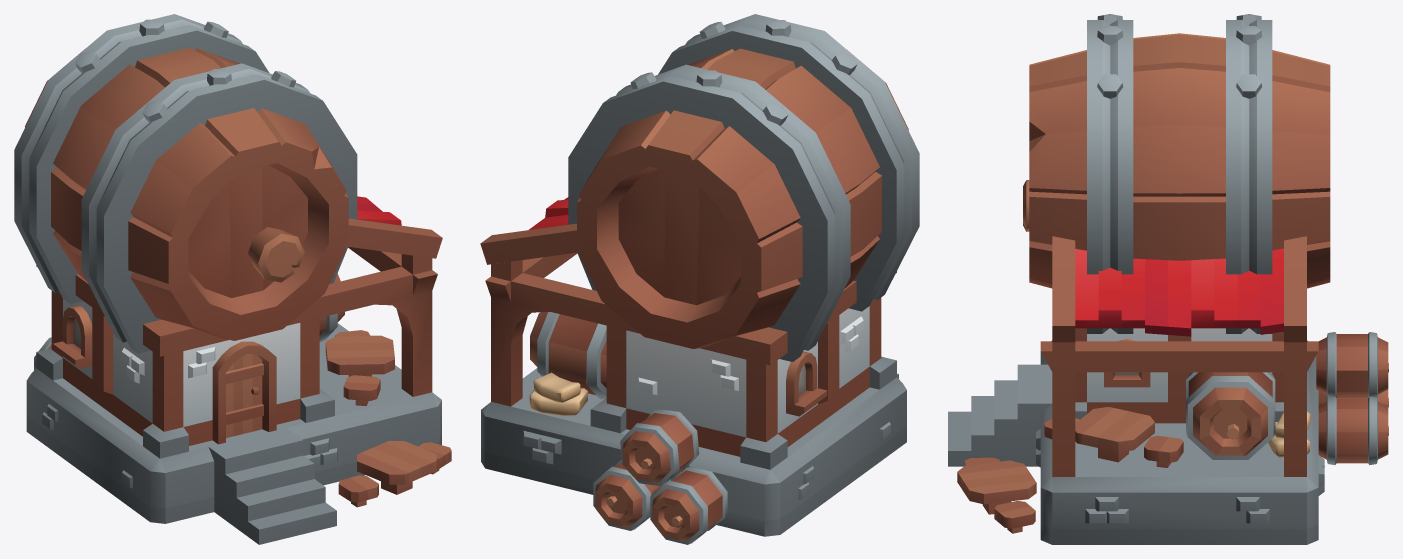
The model's file is tavern.glb.
3 views of the same model, side by side, from view 1: azimuth 30°, elevation 25°; view 2: azimuth 150°, elevation 25°; view 3: azimuth 270°, elevation 25° (orthographic). The views are drawn at different scales.
Parts seen in each view (by area): view 1: tavern; view 2: tavern; view 3: tavern.
Boxes of the visible parts, x1=… form: tavern: x1=14, y1=14, x2=451, y2=544; tavern: x1=480, y1=14, x2=919, y2=544; tavern: x1=948, y1=14, x2=1388, y2=544.
Bounding box in the file's own units: 0.5859 × 0.6983 × 0.6662.
Materials: 1 (1 with a texture image).
